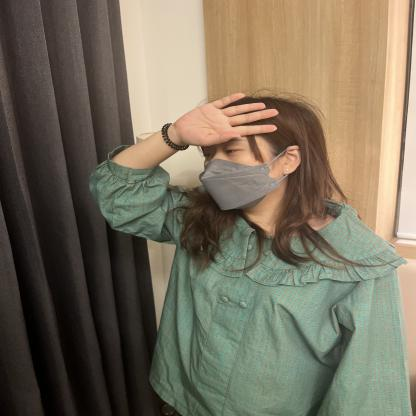Sick: (81, 70, 382, 223)
